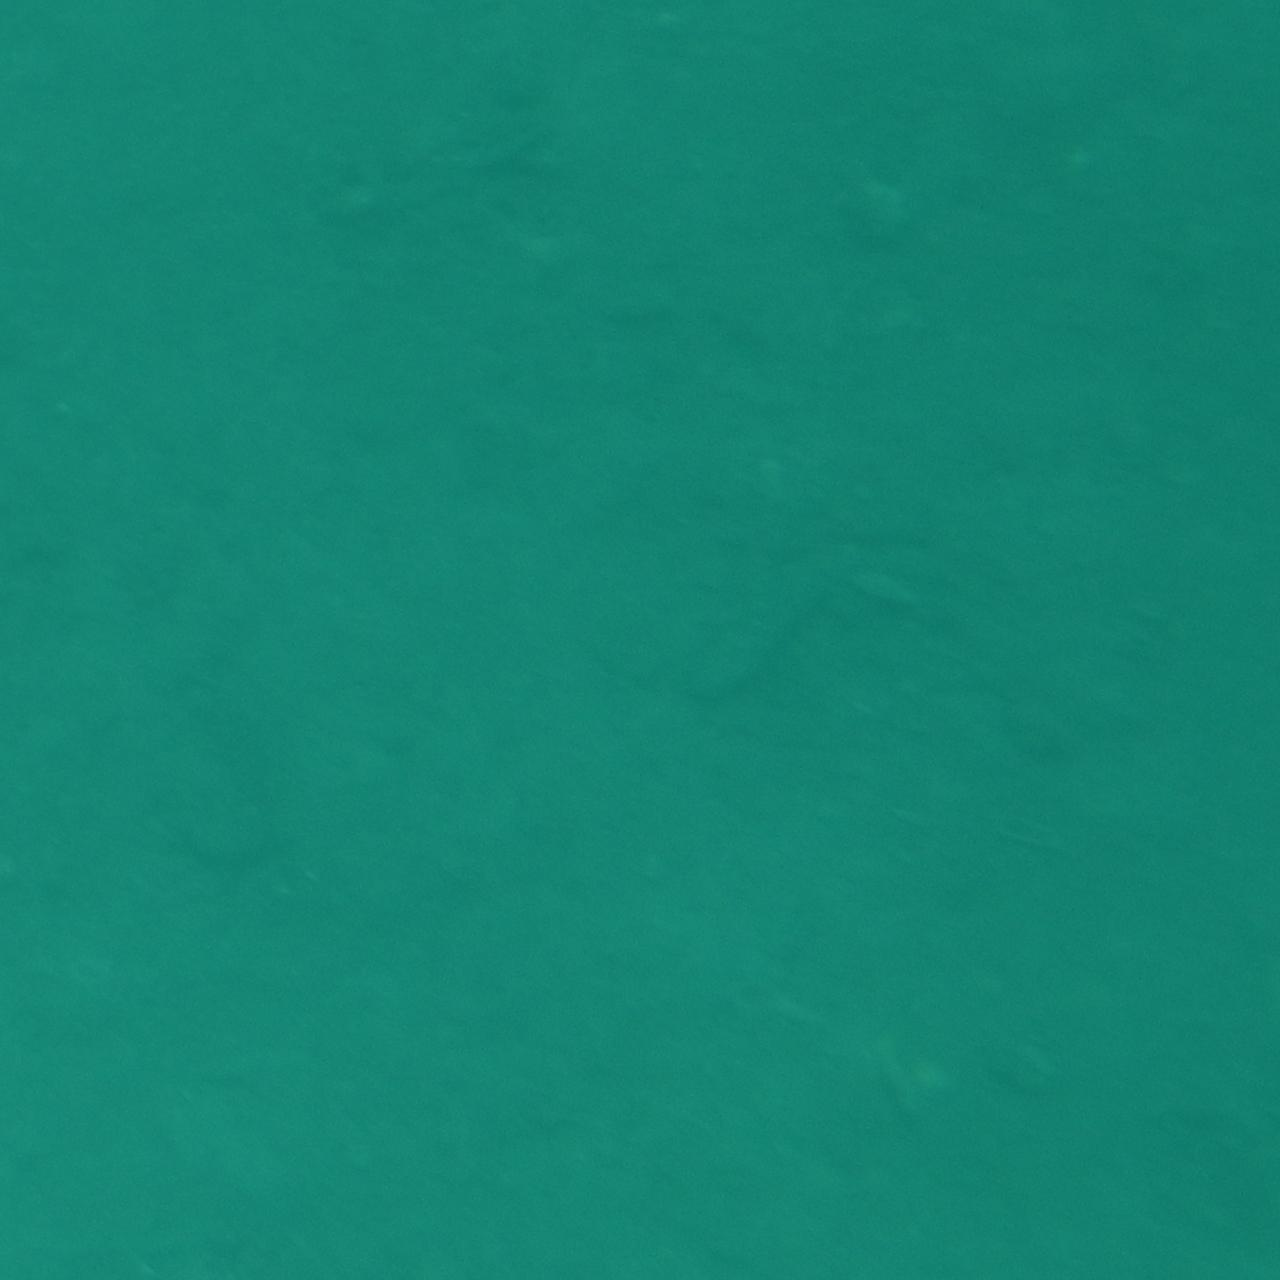Holothuria tubulosa: (673, 543, 922, 737)
